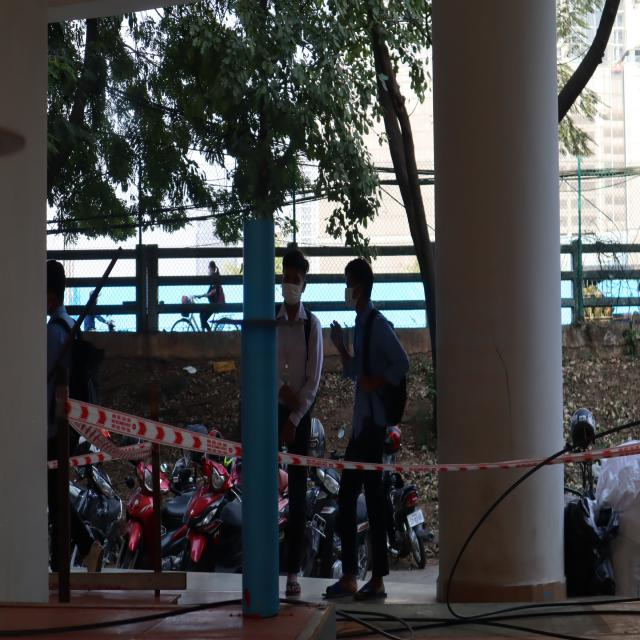pole: (215, 211, 302, 421)
